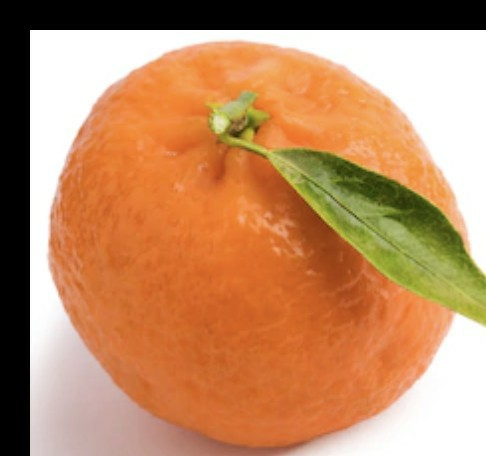fresh_orange: (45, 41, 474, 446)
